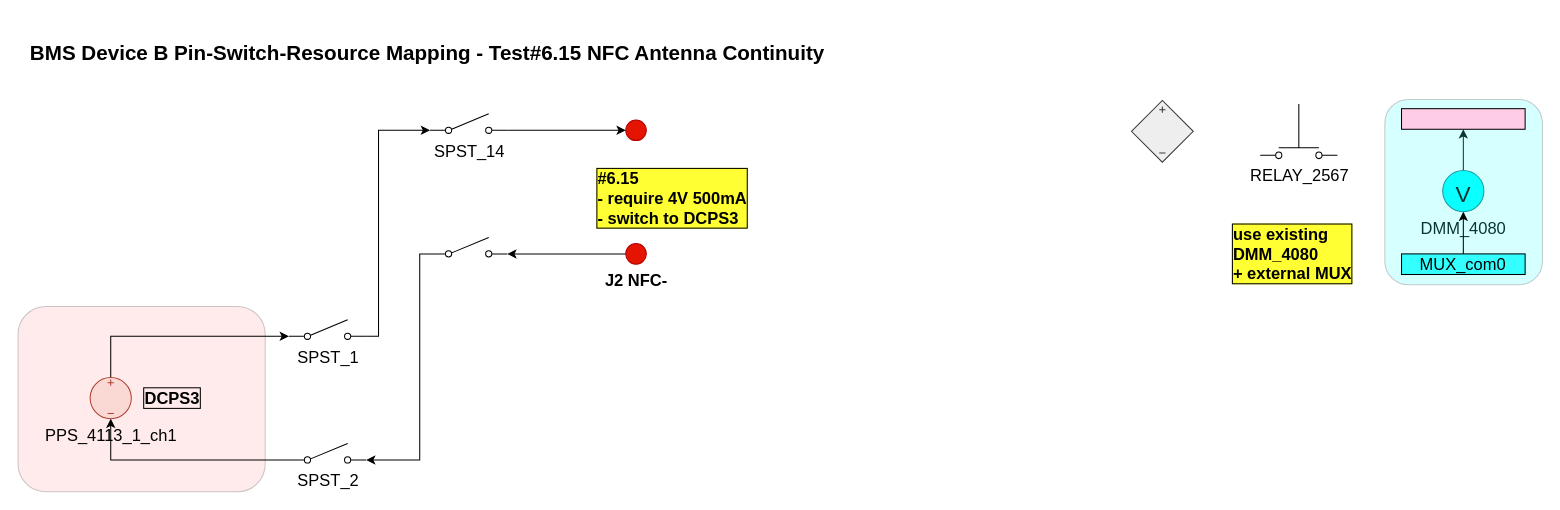
The diagram is 1560 pixels wide and 510 high, and some of its shapes have lost their labels. The box of each missing label's shape, as (x1, y1, x2, y2) in pixels:
J1 NFC+: (625, 119, 646, 141)
MUX_com1: (1400, 108, 1525, 129)
RELAY PS: (1130, 99, 1193, 162)
SPST_15: (429, 236, 507, 258)
